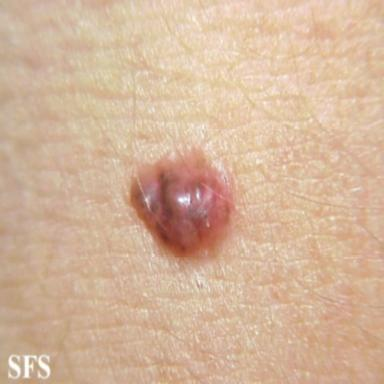basal-cell-carcinoma: (128, 149, 233, 263)
